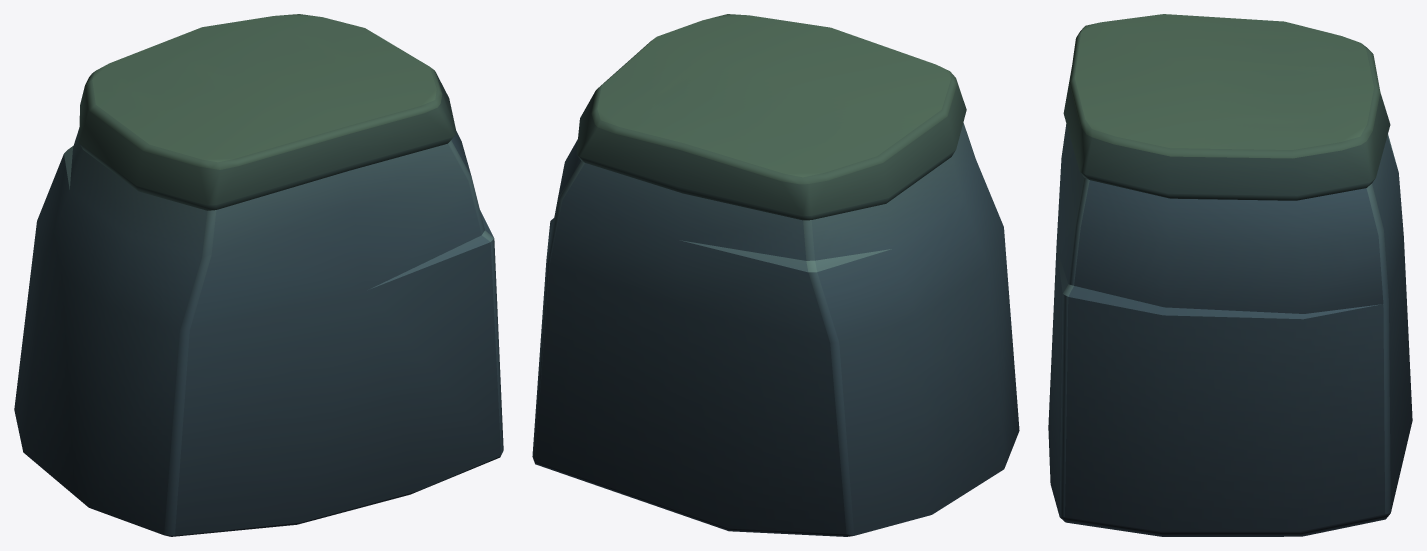
The model's file is rock_large_grass_02.fbx.
The picture shows the model from 3 angles, left to right: view 1: azimuth 30°, elevation 25°; view 2: azimuth 150°, elevation 25°; view 3: azimuth 270°, elevation 25°; orthographic projection. The views are drawn at different scales.
Visible parts, largest first — view 1: rock_large_grass_02; view 2: rock_large_grass_02; view 3: rock_large_grass_02.
Part boxes in pixels (box(x1,y1,x2,y2)): rock_large_grass_02: box(14, 14, 503, 536); rock_large_grass_02: box(532, 14, 1019, 536); rock_large_grass_02: box(1048, 14, 1412, 536).
Bounding box in the file's own units: 1827 × 1654 × 1419.
